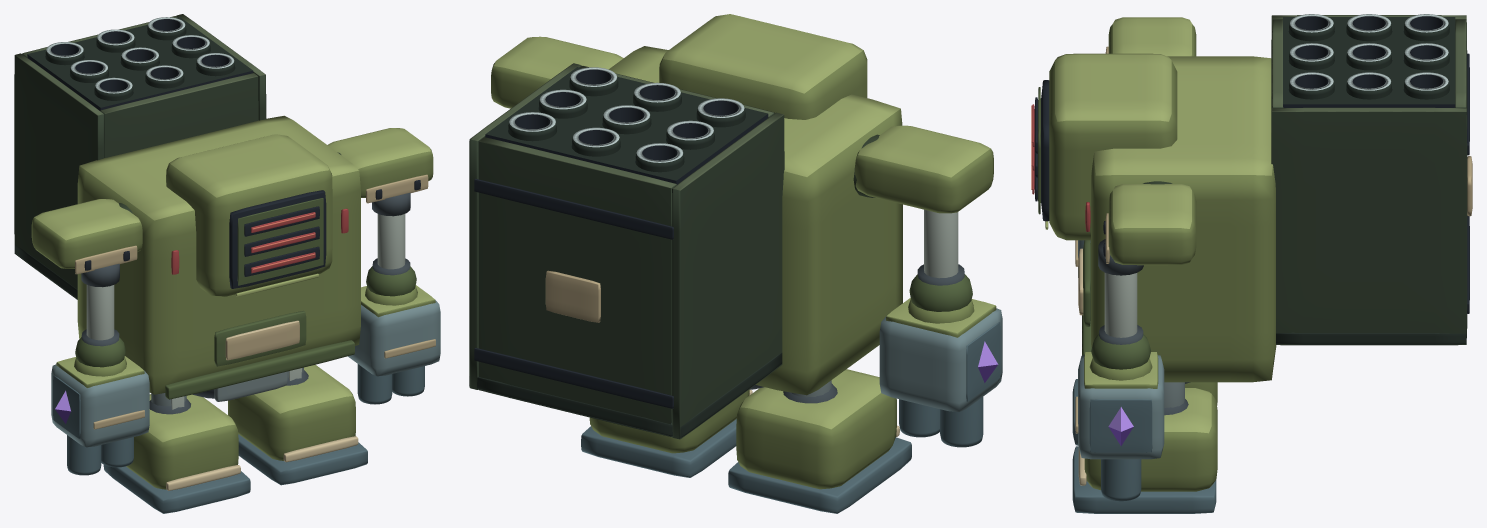
The model's file is military-robot.obj.
3 renders of one model, left to right at view 1: azimuth 30°, elevation 25°; view 2: azimuth 150°, elevation 25°; view 3: azimuth 270°, elevation 25°, orthographic. The views are drawn at different scales.
Parts seen in each view (by area): view 1: Torso_Rectangular_Armor, Head_Armor, Back_Box_Side_L, Back_Box_Front, Boot_Armor_R, Boot_Armor_L, Shoulder_Armor_L, Hand_Launcher_Casing_R, Hand_Launcher_Casing_L, Shoulder_Armor_R, Torso_Lower_Armor_Band, Head_Visor_Inset (+48 smaller); view 2: Back_Box_Rear, Torso_Rectangular_Armor, Back_Box_Side_L, Head_Armor, Boot_Armor_L, Shoulder_Armor_L, Hand_Launcher_Casing_L, Shoulder_Armor_R, Boot_Sole_L, Back_Box_Base, Boot_Sole_R, Back_Box_Side_R (+29 smaller); view 3: Back_Box_Side_R, Torso_Rectangular_Armor, Head_Armor, Shoulder_Armor_R, Boot_Armor_R, Boot_Sole_R, Hand_Launcher_Casing_R, Shoulder_Armor_L, Hand_Dorsal_Plate_R, Back_Box_Base, Arm_Piston_R, Hand_Rocket_Tube_2_R (+28 smaller).
Part boxes in pixels (x1,y1,x2,y2): Torso_Rectangular_Armor: [77, 115, 360, 394]; Head_Armor: [166, 134, 332, 297]; Back_Box_Side_L: [14, 53, 104, 299]; Back_Box_Front: [100, 73, 258, 157]; Boot_Armor_R: [228, 364, 355, 460]; Boot_Armor_L: [126, 394, 238, 489]; Shoulder_Armor_L: [31, 199, 142, 268]; Hand_Launcher_Casing_R: [348, 300, 440, 376]; Hand_Launcher_Casing_L: [51, 364, 149, 447]; Shoulder_Armor_R: [327, 128, 433, 197]; Torso_Lower_Armor_Band: [165, 340, 354, 399]; Head_Visor_Inset: [237, 198, 323, 285]; Back_Box_Rear: [479, 137, 676, 436]; Torso_Rectangular_Armor: [608, 46, 902, 395]; Back_Box_Side_L: [671, 112, 784, 439]; Head_Armor: [659, 14, 867, 119]; Boot_Armor_L: [736, 369, 896, 489]; Shoulder_Armor_L: [855, 125, 993, 213]; Hand_Launcher_Casing_L: [879, 308, 1002, 411]; Shoulder_Armor_R: [491, 36, 623, 108]; Boot_Sole_L: [728, 437, 911, 513]; Back_Box_Base: [469, 353, 782, 437]; Boot_Sole_R: [581, 419, 736, 477]; Back_Box_Side_R: [469, 63, 581, 389]; Back_Box_Side_R: [1271, 107, 1467, 345]; Torso_Rectangular_Armor: [1091, 56, 1276, 382]; Head_Armor: [1049, 53, 1177, 240]; Shoulder_Armor_R: [1108, 184, 1196, 265]; Boot_Armor_R: [1084, 388, 1217, 491]; Boot_Sole_R: [1072, 446, 1216, 513]; Hand_Launcher_Casing_R: [1078, 355, 1164, 459]; Shoulder_Armor_L: [1108, 17, 1196, 56]; Hand_Dorsal_Plate_R: [1089, 399, 1152, 452]; Back_Box_Base: [1276, 314, 1467, 344]; Arm_Piston_R: [1104, 273, 1137, 337]; Hand_Rocket_Tube_2_R: [1101, 459, 1141, 501].
Bounding box in the file's own units: 3.97 × 3.42 × 3.38.
